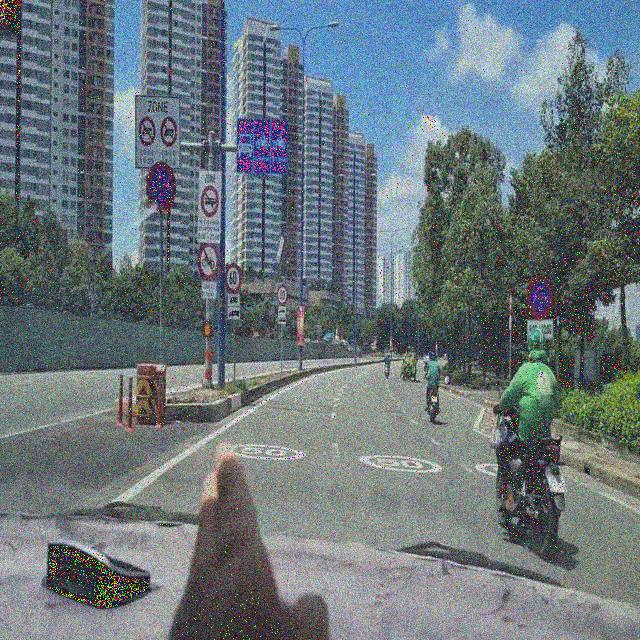Biển phụ: (526, 318, 553, 339), (196, 277, 220, 298), (225, 295, 241, 320), (276, 301, 287, 324)
Cấm các phương tiện hoạt động trong khung giờ cố định: (123, 87, 181, 171), (196, 168, 224, 247)
Cấm dừng - Cấm đỗ: (137, 151, 180, 214), (523, 266, 558, 317)
Cấm xe máy: (196, 238, 221, 281)
Giới hạn tốc độ: 60Km/h: (223, 258, 243, 291)
Giới hạn tốc độ: 80Km/h: (276, 280, 288, 304)
Làn đường cho từng xe: (235, 111, 289, 179)
